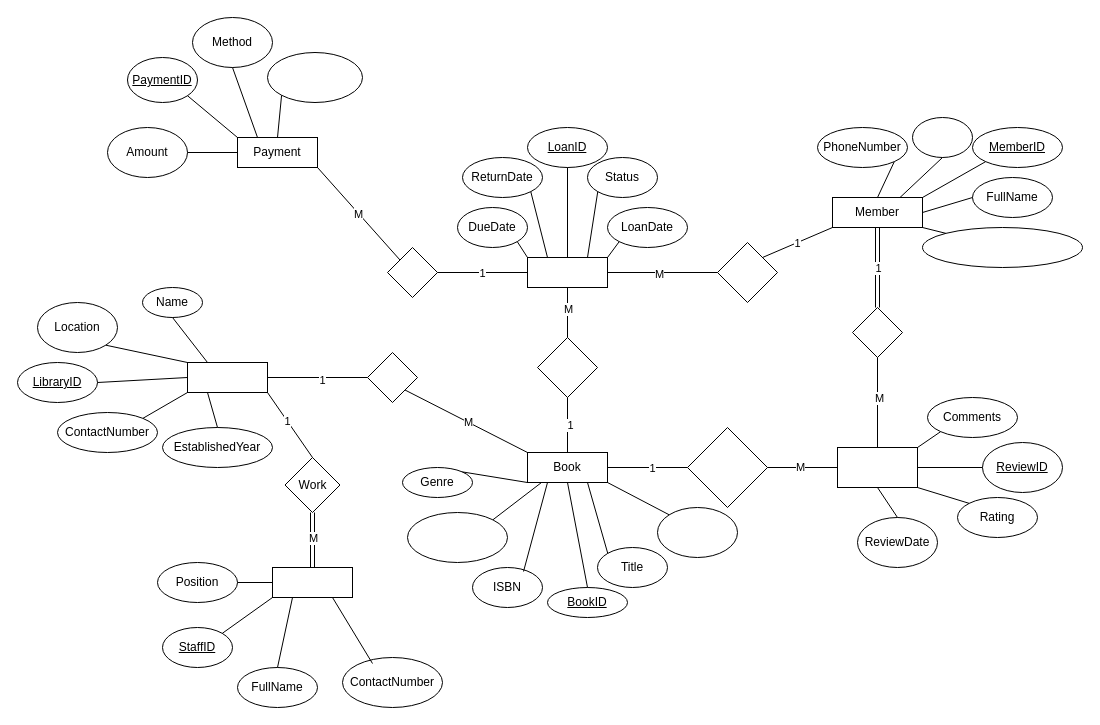
This 1100x725 diagram has some shape labels left out. Each missing label, with the box of its shape:
Availability: (656, 506, 738, 558)
Can Be: (536, 336, 598, 398)
Email: (912, 116, 972, 158)
Has: (366, 352, 418, 402)
Has/For: (716, 242, 778, 302)
Library: (186, 362, 268, 392)
Linked: (386, 246, 438, 298)
Loan: (526, 256, 608, 288)
MembershipStartDate: (922, 226, 1082, 268)
PaymentDate: (266, 52, 362, 102)
Receive /For: (686, 426, 768, 508)
Review: (836, 446, 918, 488)
ShelfLocation: (406, 512, 508, 562)
Staff: (272, 566, 352, 598)
Write: (852, 306, 902, 358)
